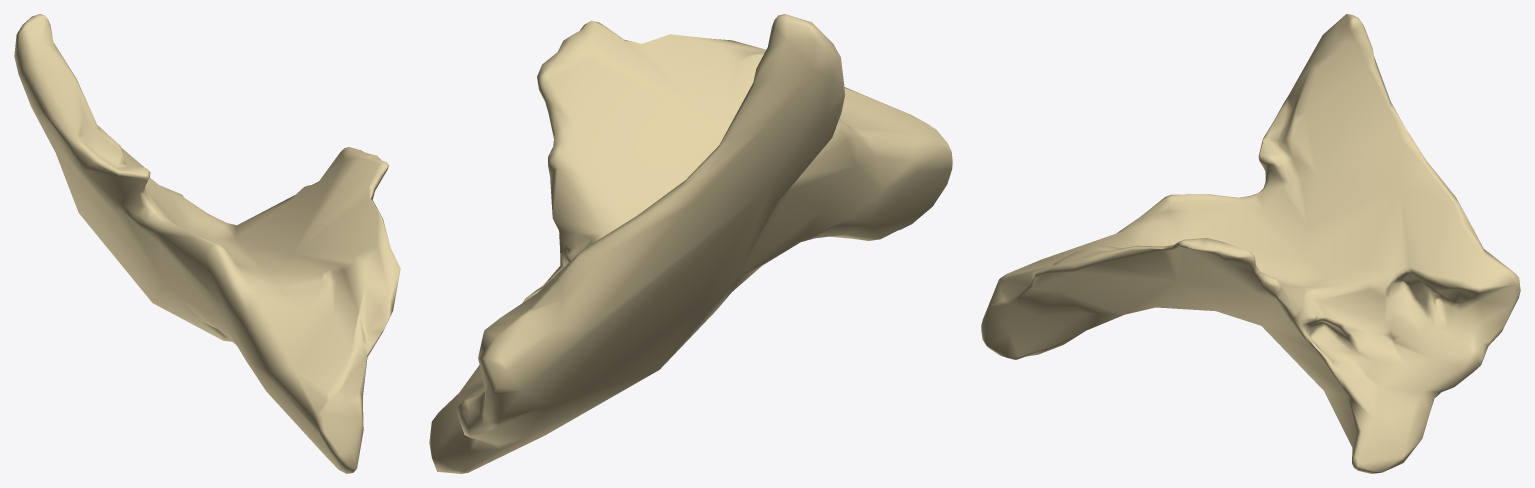
The picture shows the model from 3 angles, left to right: view 1: azimuth 30°, elevation 25°; view 2: azimuth 150°, elevation 25°; view 3: azimuth 270°, elevation 25°; orthographic projection. The views are drawn at different scales.
Parts seen in each view (by area): view 1: 右侧颧骨; view 2: 右侧颧骨; view 3: 右侧颧骨.
Boxes of the visible parts, x1=… form: 右侧颧骨: x1=14, y1=14, x2=400, y2=473; 右侧颧骨: x1=429, y1=14, x2=952, y2=473; 右侧颧骨: x1=981, y1=14, x2=1520, y2=473.
Size of the model in its own units: 0.0452 by 0.0574 by 0.0807.
